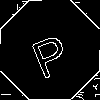P: (25, 25, 73, 80)
